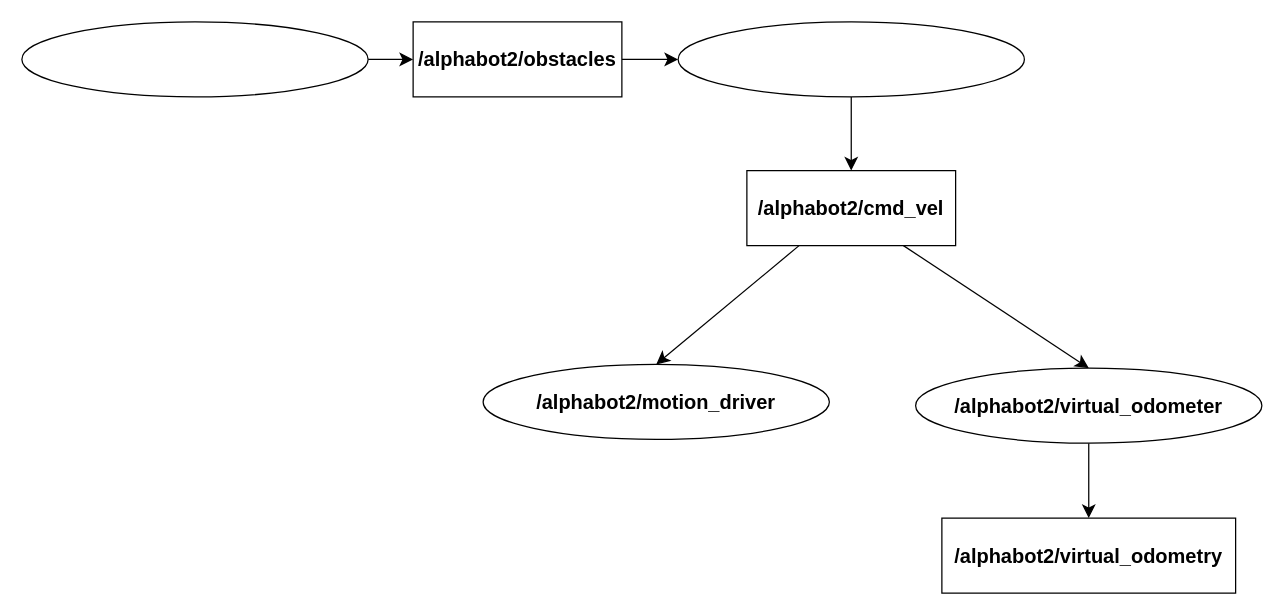
This 1284x615 diagram has some shape labels left out. Here are the shapes that lost their labels. From the top down, the centre of each, then its label:
point (194, 59): /alphabot2/IR_obstacle_sensors
point (850, 59): /alphabot2/Avoiding
